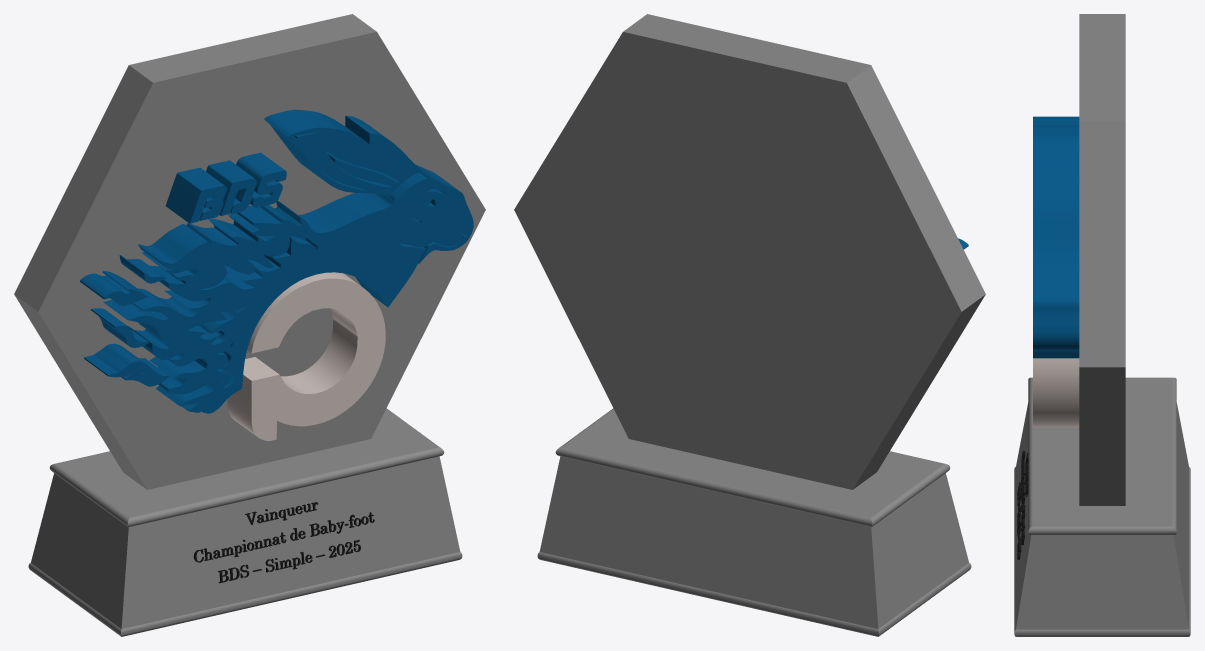
Rendered from Trophee_simple.glb.
3 renders of one model, left to right at view 1: azimuth 30°, elevation 25°; view 2: azimuth 150°, elevation 25°; view 3: azimuth 270°, elevation 25°, orthographic. The views are drawn at different scales.
Visible parts, largest first — view 1: Pièce 7, Pièce 5, Pièce 6, Pièce 8; view 2: Pièce 7; view 3: Pièce 7, Pièce 5, Pièce 6, Pièce 8.
Part boxes in pixels (bbox=[...]): Pièce 7: bbox=[14, 14, 485, 636]; Pièce 5: bbox=[80, 109, 473, 413]; Pièce 6: bbox=[227, 272, 385, 441]; Pièce 8: bbox=[193, 502, 374, 583]; Pièce 7: bbox=[514, 14, 985, 636]; Pièce 7: bbox=[1014, 14, 1190, 636]; Pièce 5: bbox=[1033, 116, 1079, 358]; Pièce 6: bbox=[1033, 358, 1079, 427]; Pièce 8: bbox=[1017, 450, 1028, 559].
Bounding box in the file's own units: 2.12 × 2.36 × 0.7584.
